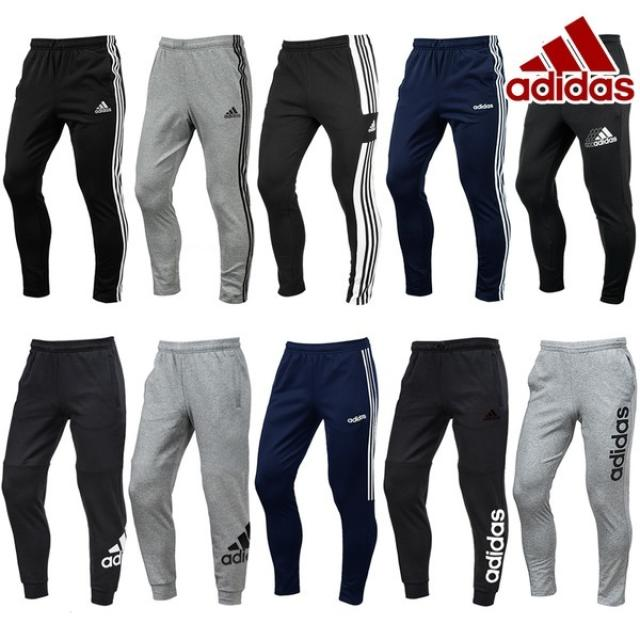pants: (386, 35, 514, 304), (3, 33, 129, 304), (2, 334, 125, 608), (261, 34, 384, 304), (257, 338, 380, 604), (516, 339, 638, 606), (386, 335, 506, 605), (132, 34, 252, 303), (134, 337, 248, 608)
